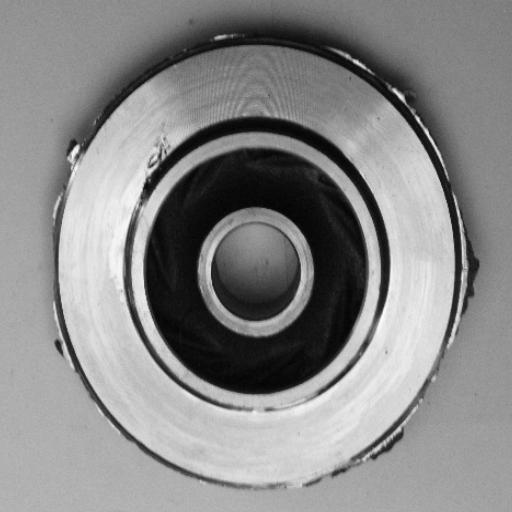casting_with_burr: (44, 28, 483, 494)
crack: (133, 122, 177, 197)
scratch: (235, 386, 325, 426)
